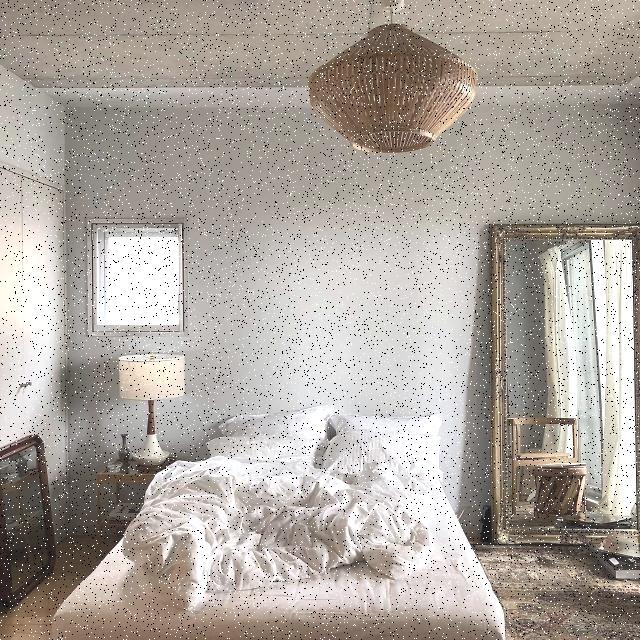bed: (65, 407, 506, 640)
